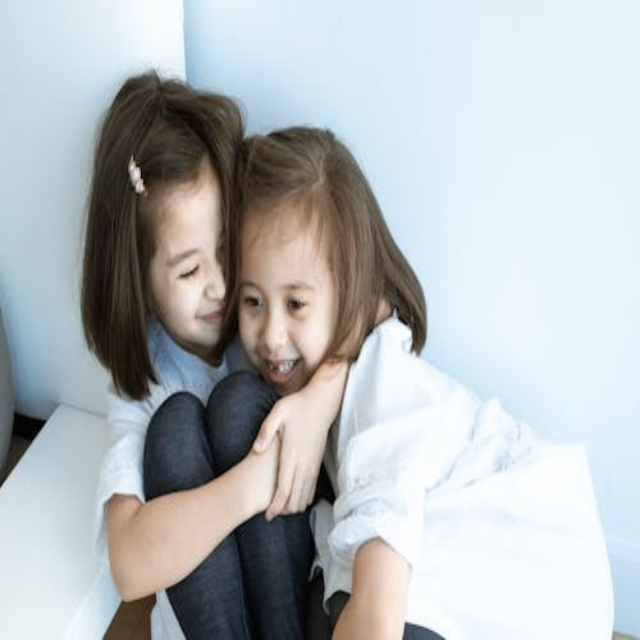Sin_gafas: (236, 261, 325, 325), (157, 217, 224, 290)
Sin_guantes: (255, 390, 326, 519)
Sin_mascara: (259, 342, 306, 384), (180, 300, 225, 336)
